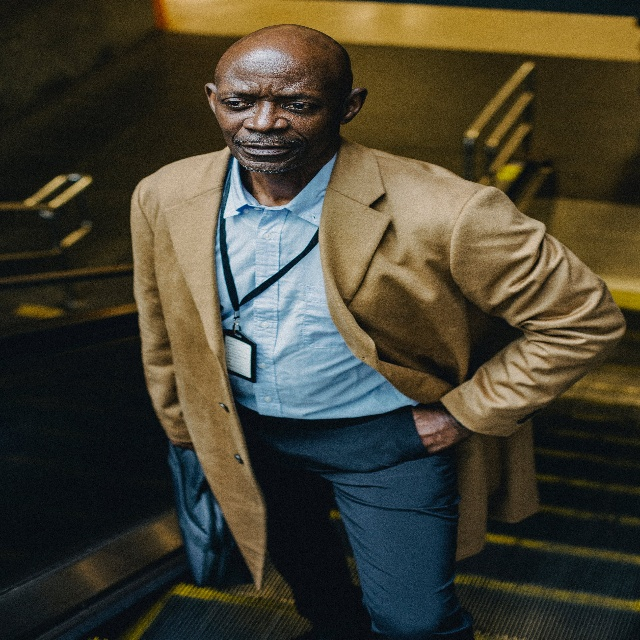Sin_guantes: (414, 399, 476, 453)
